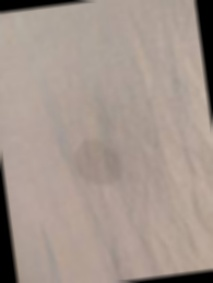oil: (70, 132, 133, 192)
